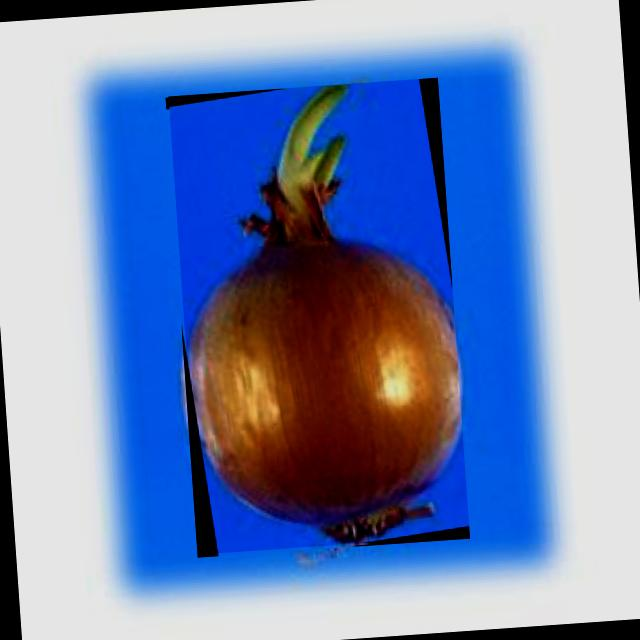sprouting: (187, 85, 461, 543)
